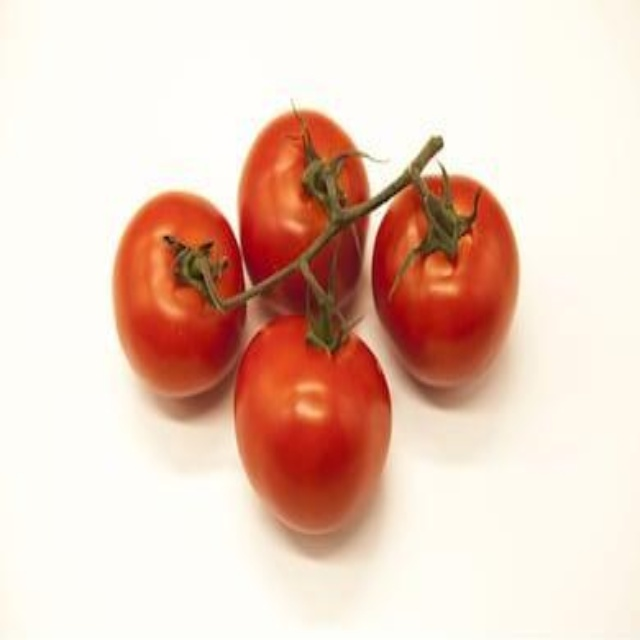tomato: (231, 309, 402, 538), (366, 160, 522, 393), (235, 96, 370, 311), (115, 197, 252, 402)
